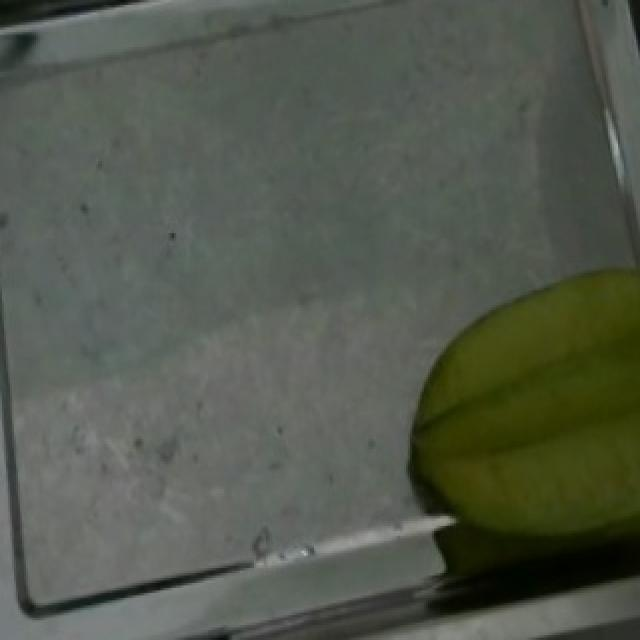fruit: (382, 236, 640, 578)
